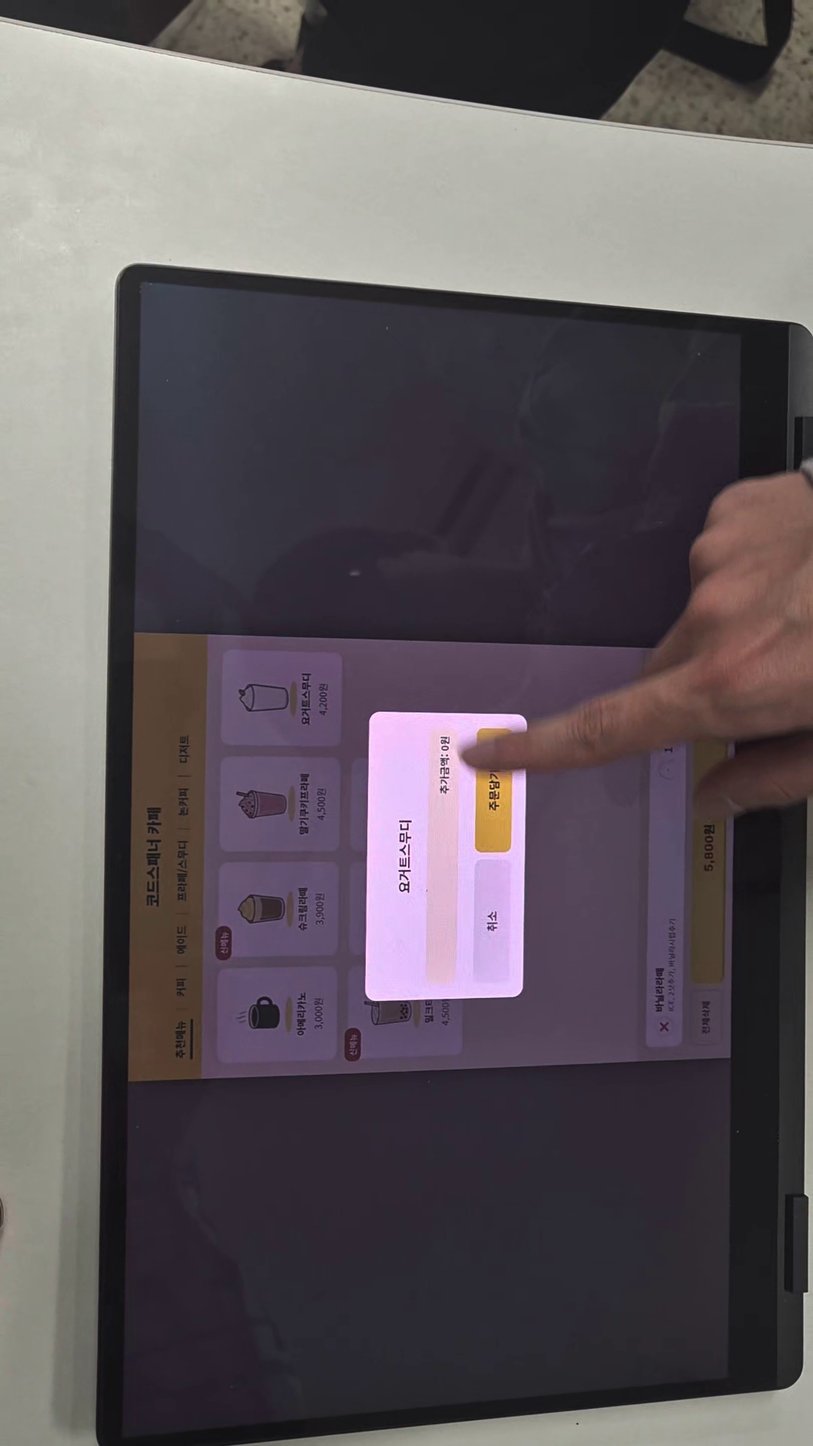action_button: (477, 729, 513, 854), (474, 858, 510, 982)
popup_modal: (367, 714, 525, 1001)
